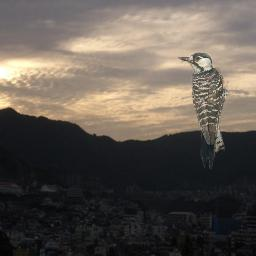Woodpecker: (177, 52, 236, 171)
